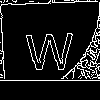W: (24, 24, 75, 71)
